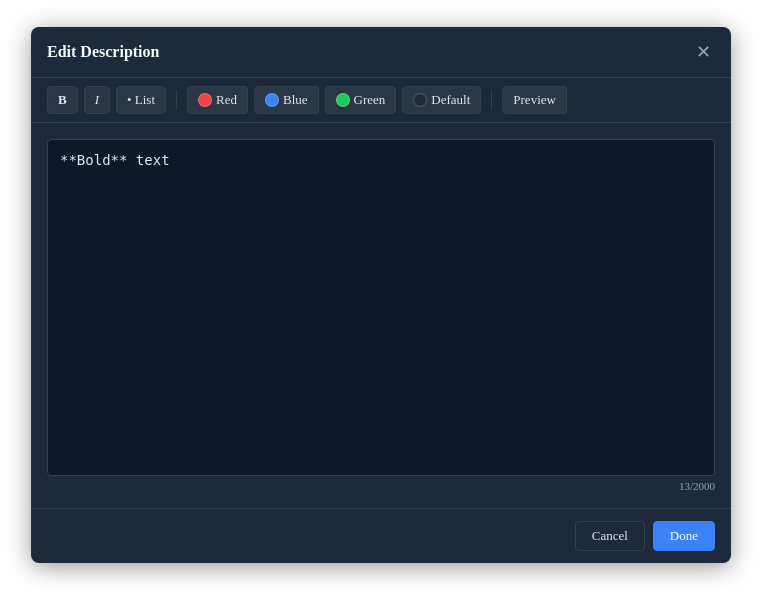
Test case: DescriptionModal › preview mode › renders formatted content in preview
Step 1. Click the button with test id "toolbar-preview-toggle" → (535, 100), box [502,86,567,114]
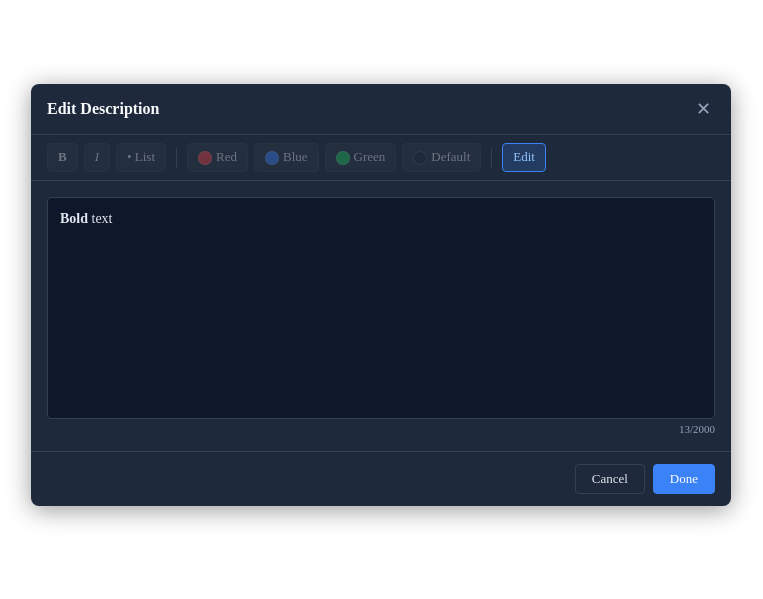
Expected: the element with test id "description-modal-preview" does not show "**"
Expected: the element with test id "description-modal-preview" shows "Bold", [60,211,88,226]
Expected: the element with test id "description-modal-preview" shows "text", [88,211,112,226]
